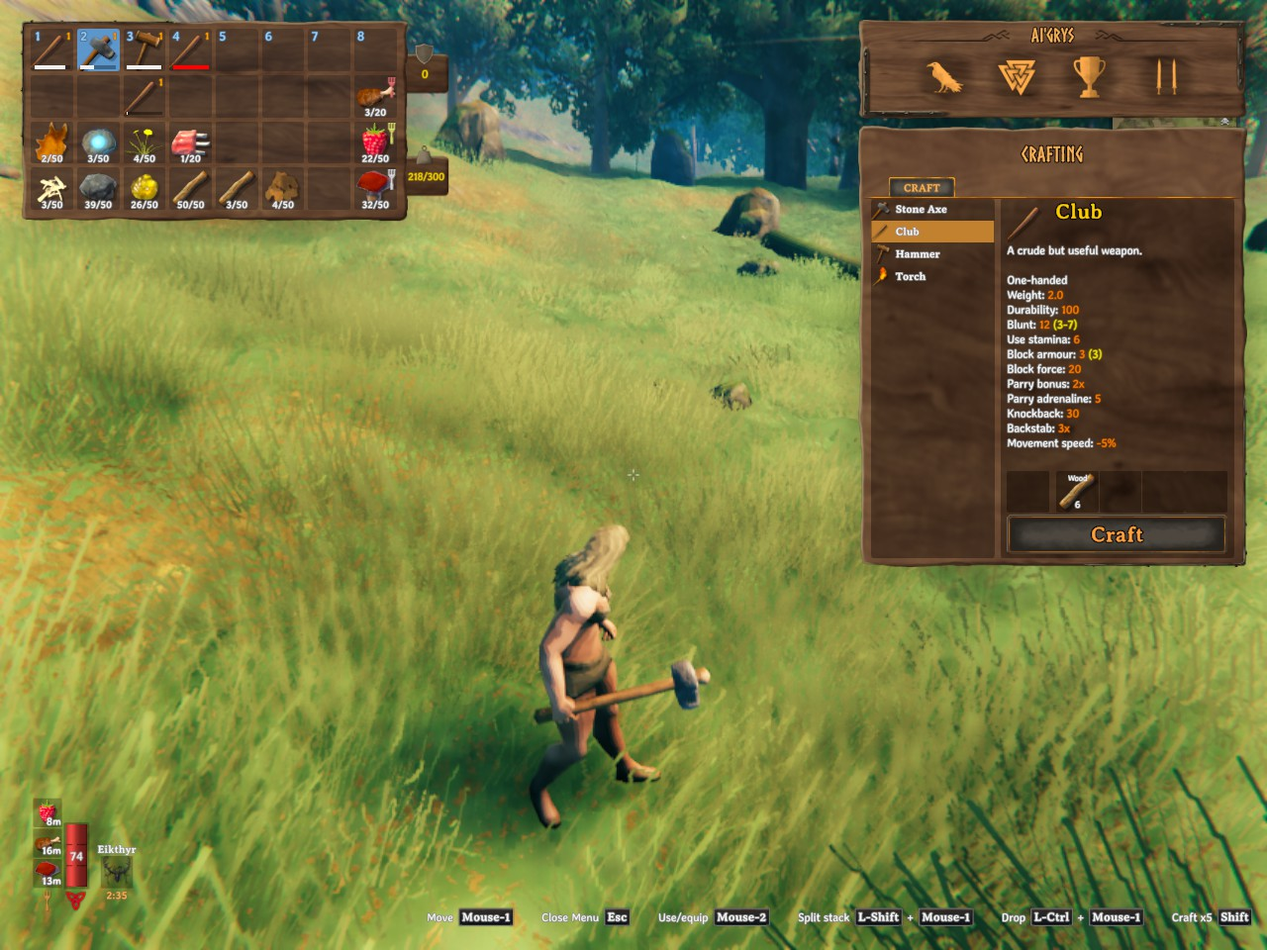Craft Button: (1008, 516, 1224, 555)
Crafting Menu: (861, 129, 1245, 564)
Food Indicator: (36, 797, 63, 891)
Health Bar: (63, 820, 90, 891)
Hotbar: (25, 21, 398, 78)
Inventory: (21, 21, 406, 216)
Stone Axe: (575, 660, 710, 712), (535, 707, 549, 722)
